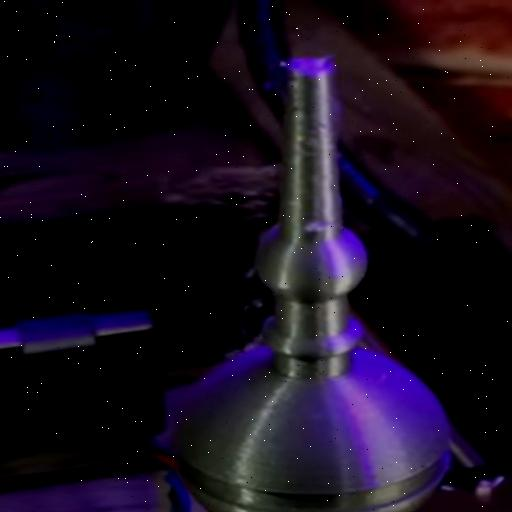stringing: (175, 164, 291, 226)
